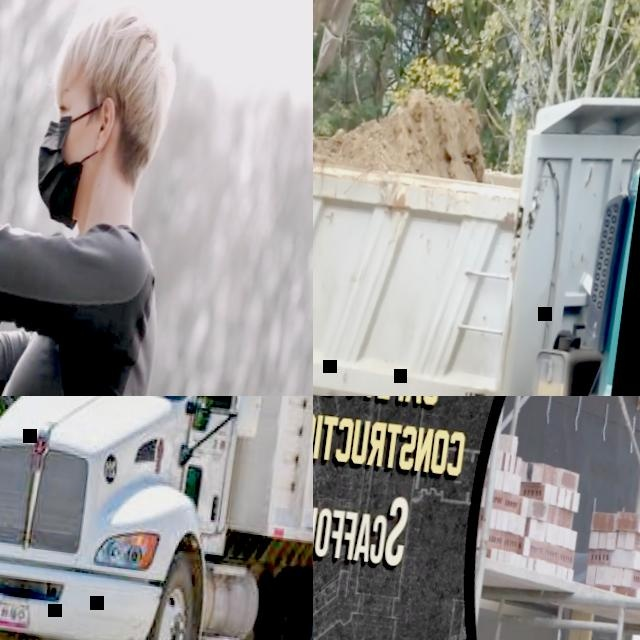Mask: (30, 112, 92, 227)
NO-Hardhat: (60, 2, 182, 104)
NO-Safety Vest: (0, 228, 169, 396)
Person: (0, 0, 202, 396)
machinery: (313, 16, 640, 396), (0, 396, 313, 640)
